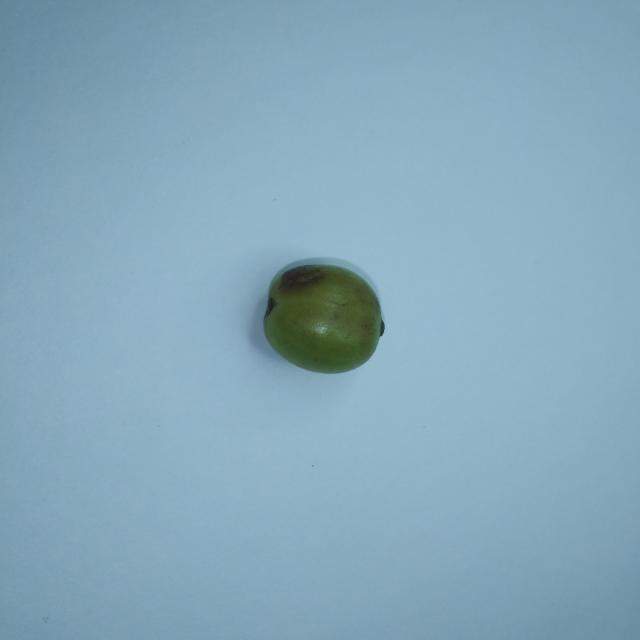Sano: (263, 264, 384, 373)
